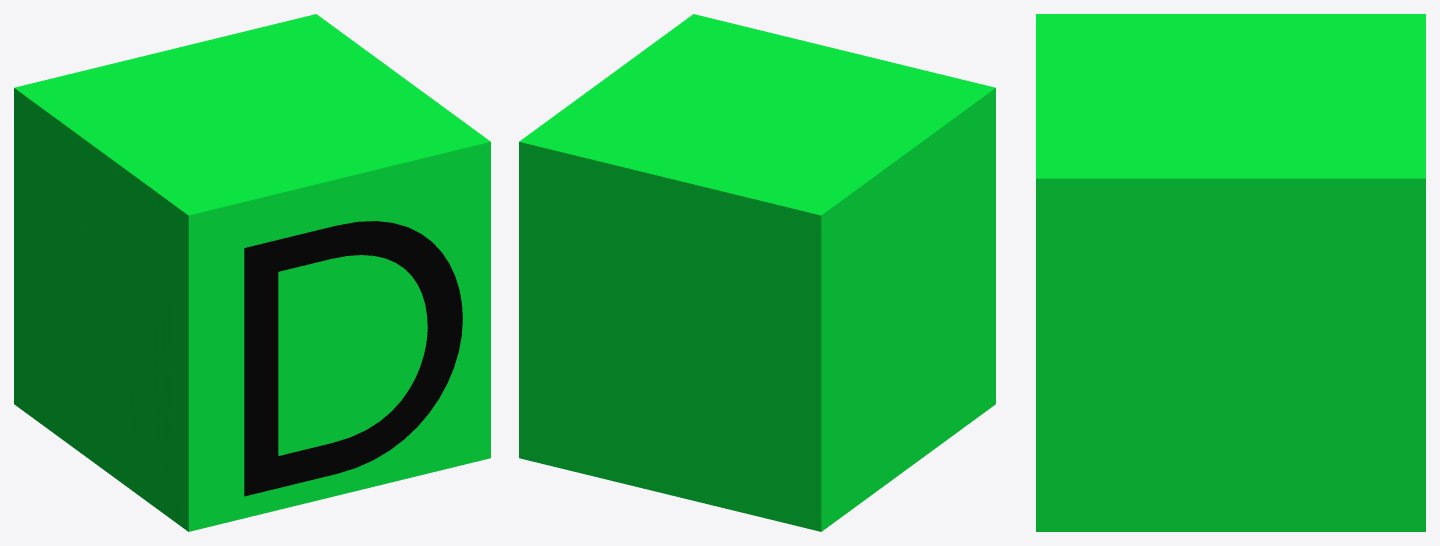
File: Tegel4.gltf
3 views of the same model, side by side, from view 1: azimuth 30°, elevation 25°; view 2: azimuth 150°, elevation 25°; view 3: azimuth 270°, elevation 25° (orthographic). The views are drawn at different scales.
Visible parts, largest first — view 1: Cube.010, Text.010; view 2: Cube.010; view 3: Cube.010.
Part boxes in pixels (x1,y1,x2,y2): Cube.010: [14, 14, 490, 531]; Text.010: [244, 221, 462, 496]; Cube.010: [519, 14, 995, 531]; Cube.010: [1036, 14, 1425, 531].
Bounding box in the file's own units: 0.2 × 0.2 × 0.2061.
